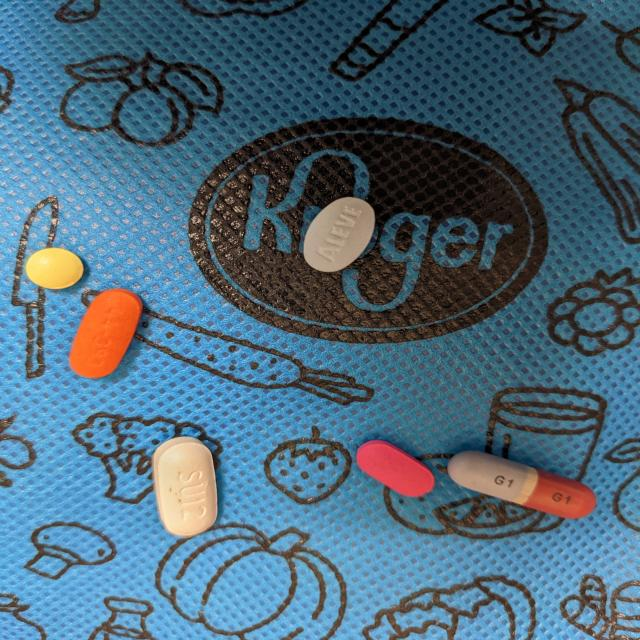non-organic waste: (446, 448, 596, 520), (151, 435, 220, 538), (68, 287, 144, 378), (302, 196, 378, 274), (356, 438, 436, 498), (24, 246, 86, 291)
